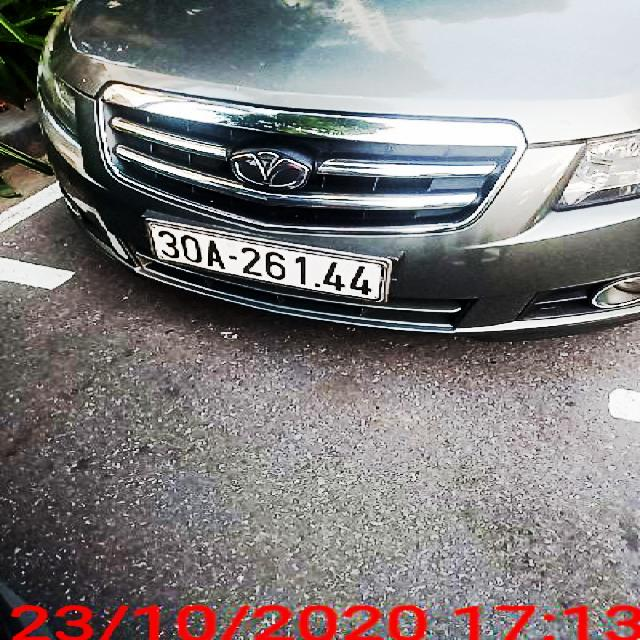license_plate: (145, 218, 392, 305)
